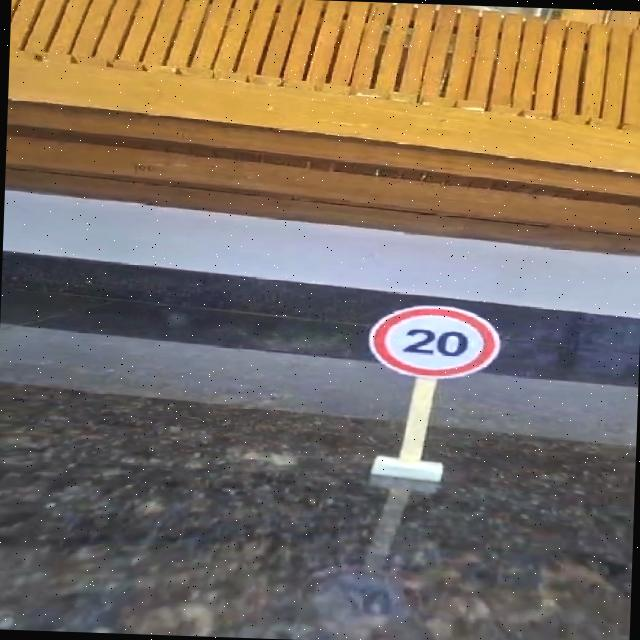Speed20: (358, 296, 508, 386)
